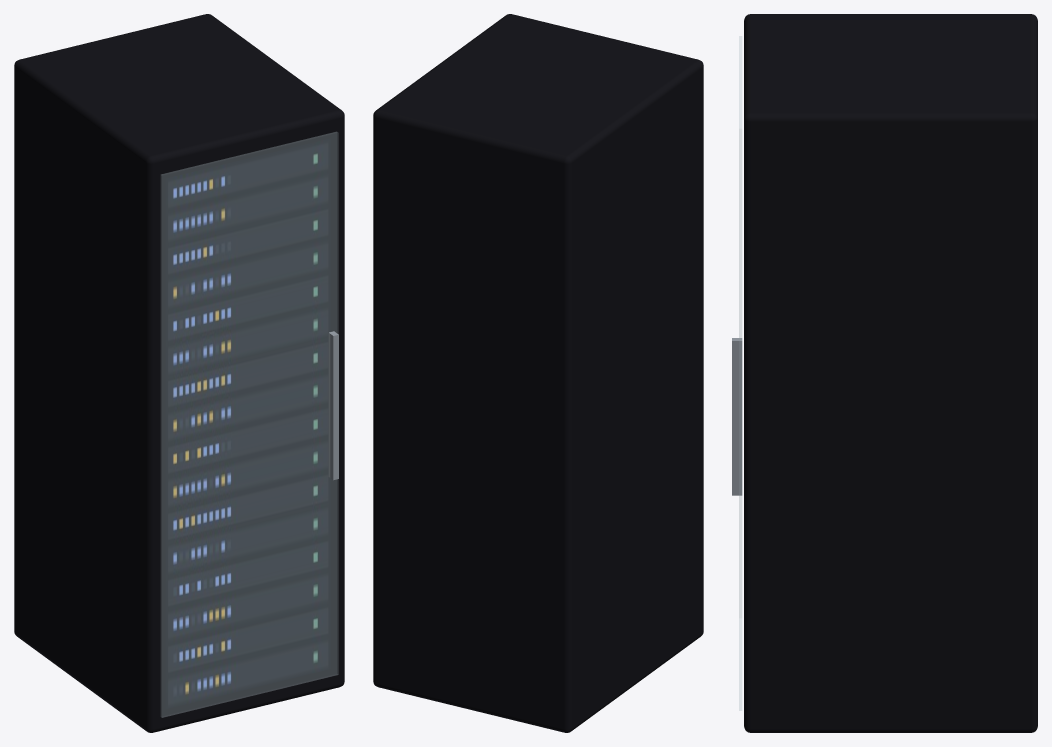
Rendered from servidor.glb.
3 renders of one model, left to right at view 1: azimuth 30°, elevation 25°; view 2: azimuth 150°, elevation 25°; view 3: azimuth 270°, elevation 25°, orthographic. The views are drawn at different scales.
Visible parts, largest first — view 1: servidor_malha; view 2: servidor_malha; view 3: servidor_malha.
Boxes of the visible parts, x1=… form: servidor_malha: x1=14, y1=14, x2=344, y2=732; servidor_malha: x1=373, y1=14, x2=703, y2=732; servidor_malha: x1=732, y1=14, x2=1037, y2=732.
Bounding box in the file's own units: 0.72 × 2 × 0.895.
Materials: 4 (1 with a texture image).
